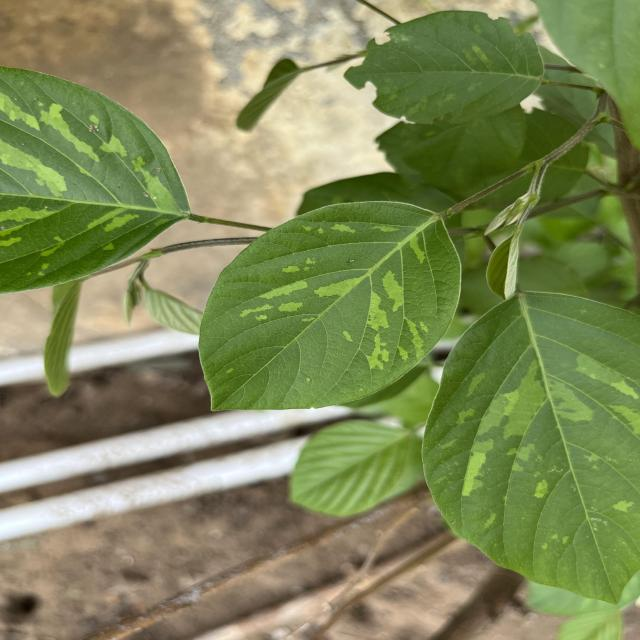Desmodium gangeticum: (418, 288, 640, 606), (194, 198, 466, 414)
